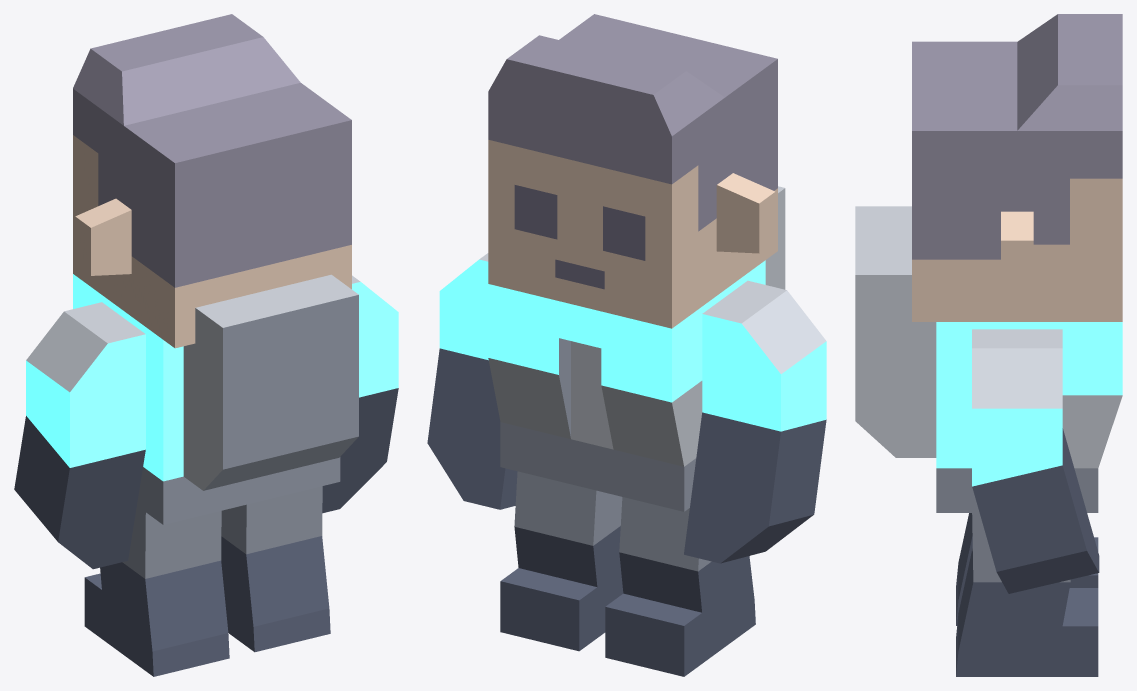
File: astronautA.glb
The picture shows the model from 3 angles, left to right: view 1: azimuth 30°, elevation 25°; view 2: azimuth 150°, elevation 25°; view 3: azimuth 270°, elevation 25°; orthographic projection. The views are drawn at different scales.
Visible parts, largest first — view 1: head, body, armLeft, legLeft, legRight, armRight; view 2: head, body, armLeft, legLeft, legRight, armRight; view 3: head, body, armRight, legRight, legLeft.
Part boxes in pixels (left/top/right/bottom): head: left=73, top=14, right=351, bottom=348; body: left=73, top=274, right=358, bottom=524; armLeft: left=14, top=302, right=145, bottom=569; legLeft: left=84, top=506, right=229, bottom=676; legRight: left=221, top=486, right=330, bottom=652; armRight: left=322, top=275, right=398, bottom=513; head: left=488, top=14, right=777, bottom=328; body: left=488, top=186, right=785, bottom=511; armLeft: left=684, top=280, right=826, bottom=563; legLeft: left=605, top=497, right=755, bottom=676; legRight: left=500, top=471, right=623, bottom=651; armRight: left=427, top=253, right=517, bottom=509; head: left=912, top=14, right=1122, bottom=321; body: left=855, top=206, right=1122, bottom=512; armRight: left=972, top=329, right=1099, bottom=593; legRight: left=956, top=513, right=1098, bottom=676; legLeft: left=956, top=513, right=1098, bottom=625.
Size of the model in its own units: 0.4832 by 0.7932 by 0.33.
